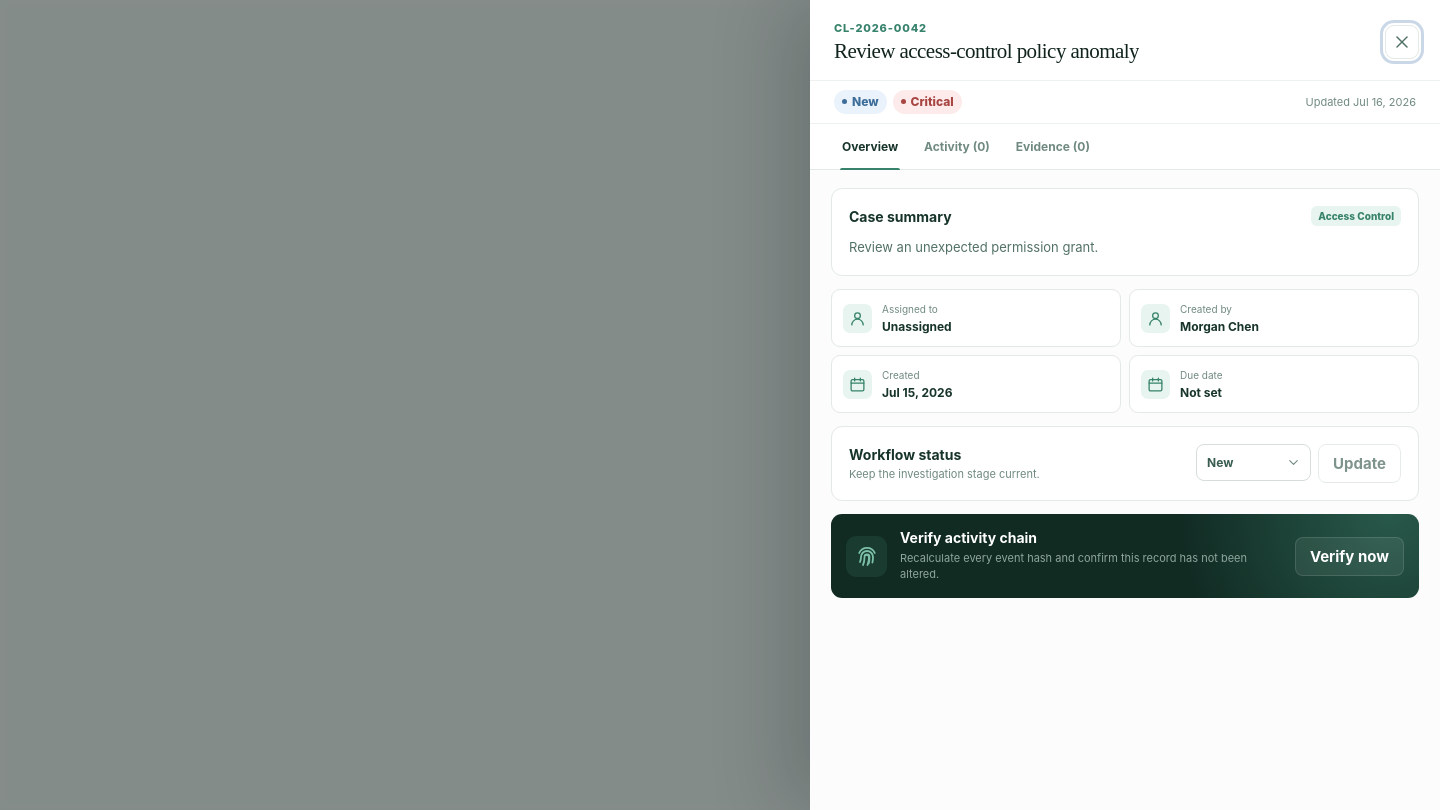
it: CaseDetailDrawer audit verification › queues a verification and applies its realtime result
Click the button "Verify now" at (1349, 556), box [1295,537,1404,576]
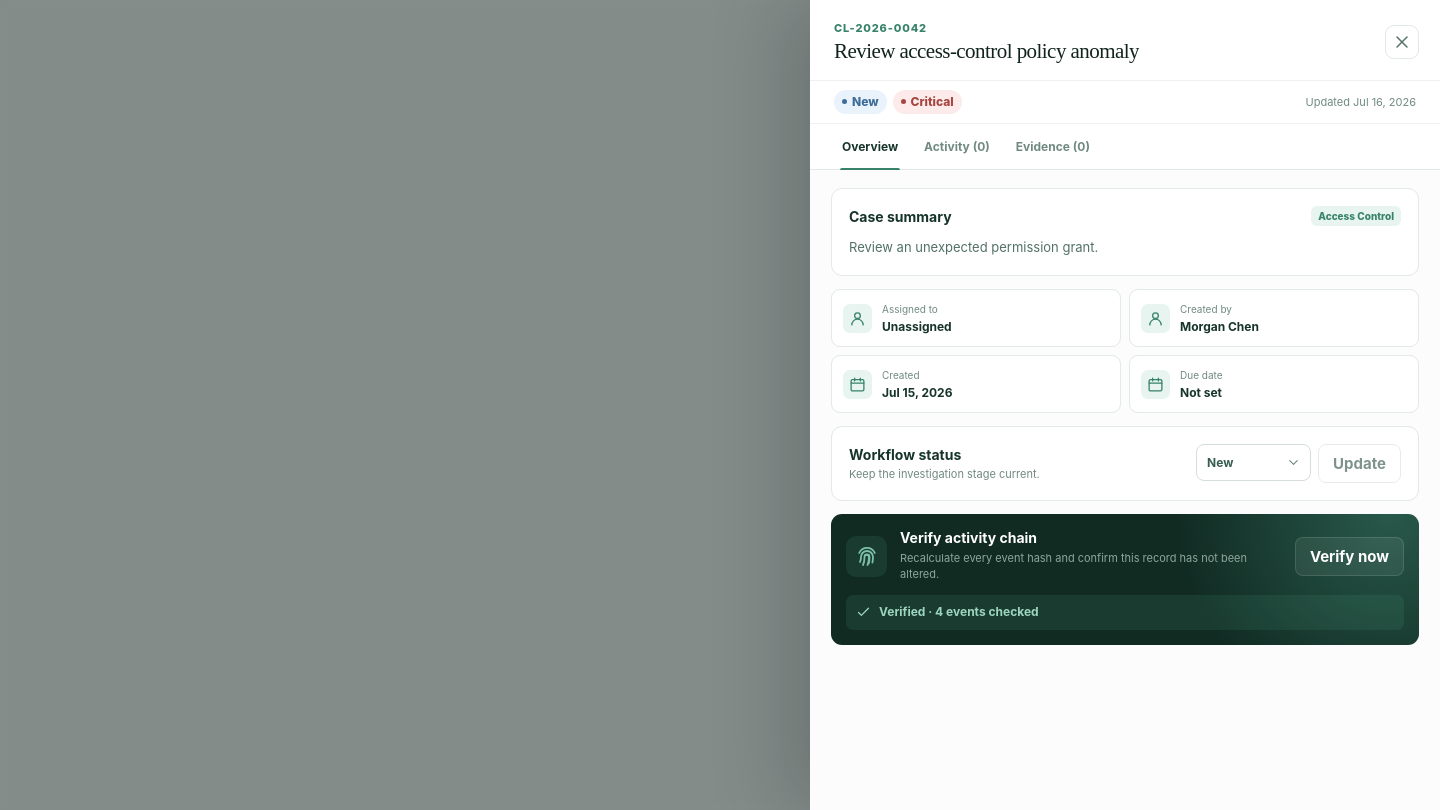
Expected: the text "Verified · 4 events checked" is shown, [879,604,1039,621]
